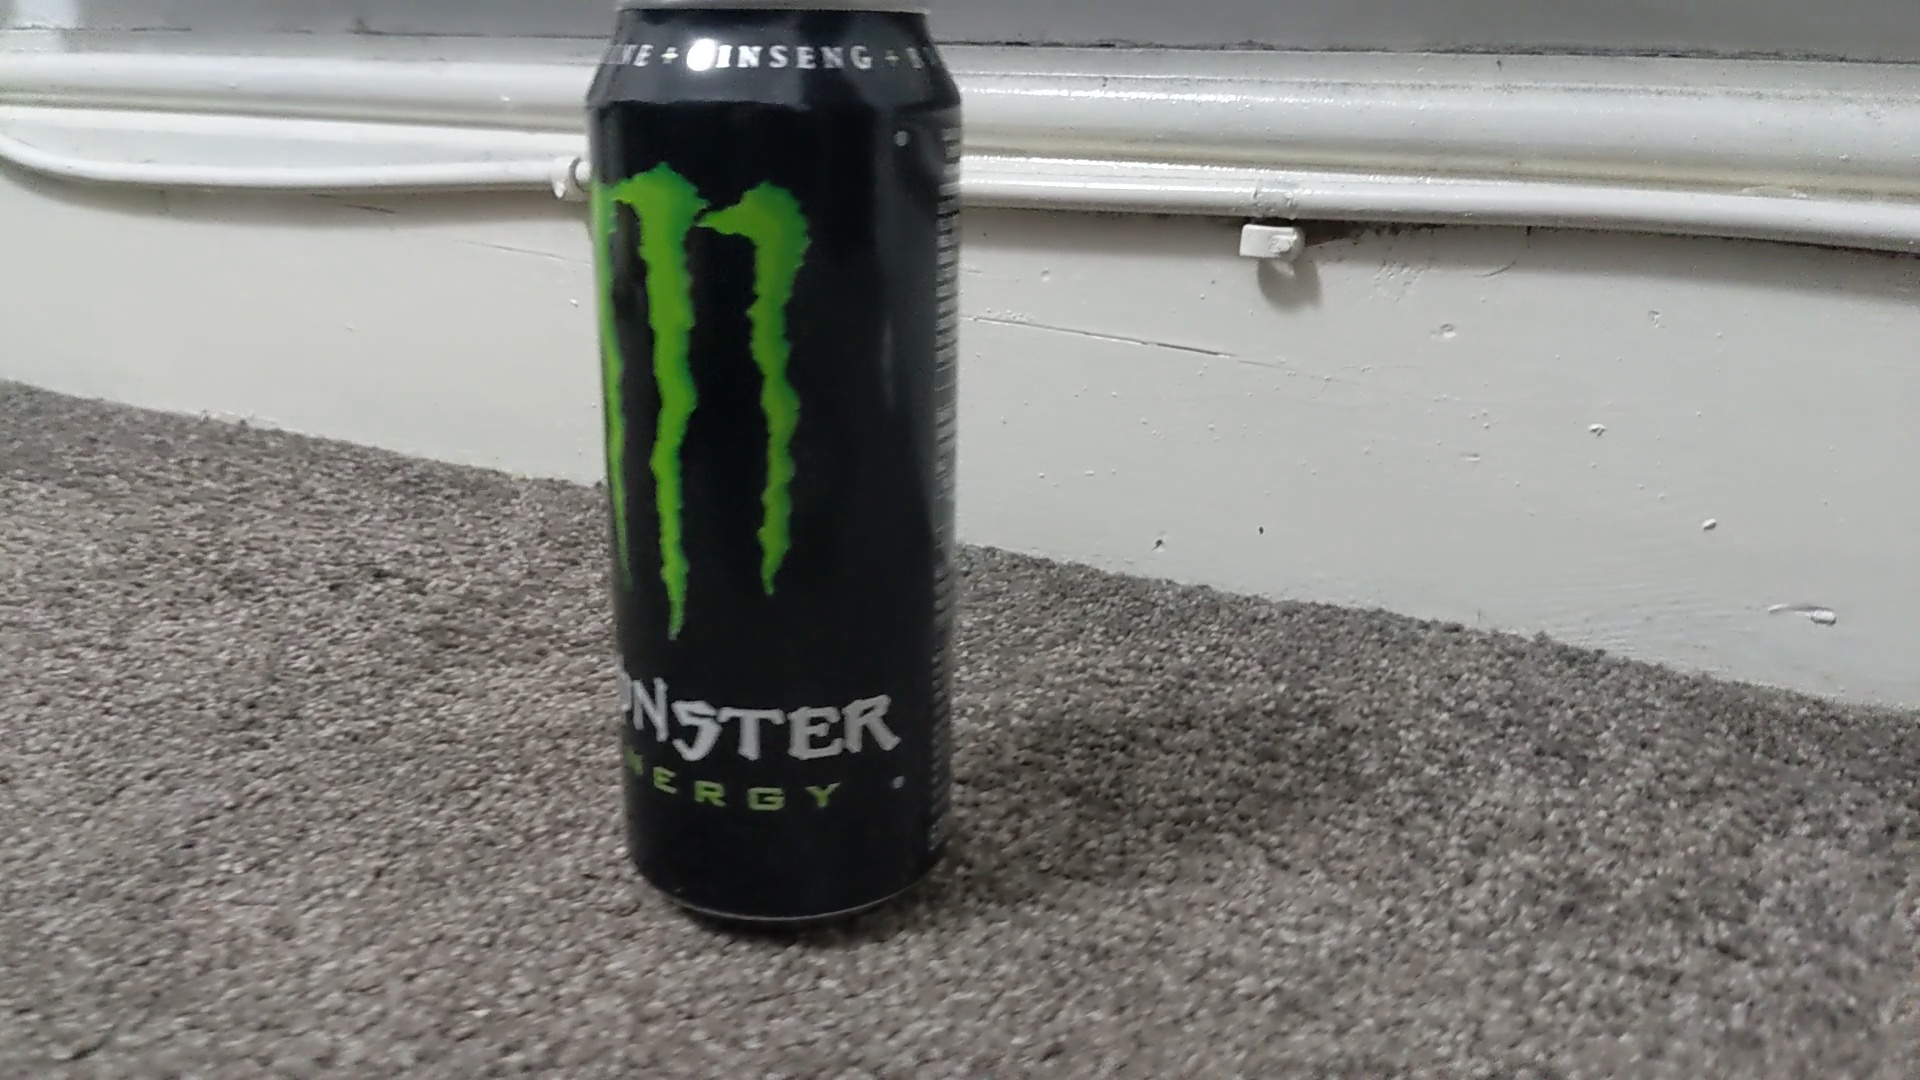monster-original: (585, 1, 963, 926)
